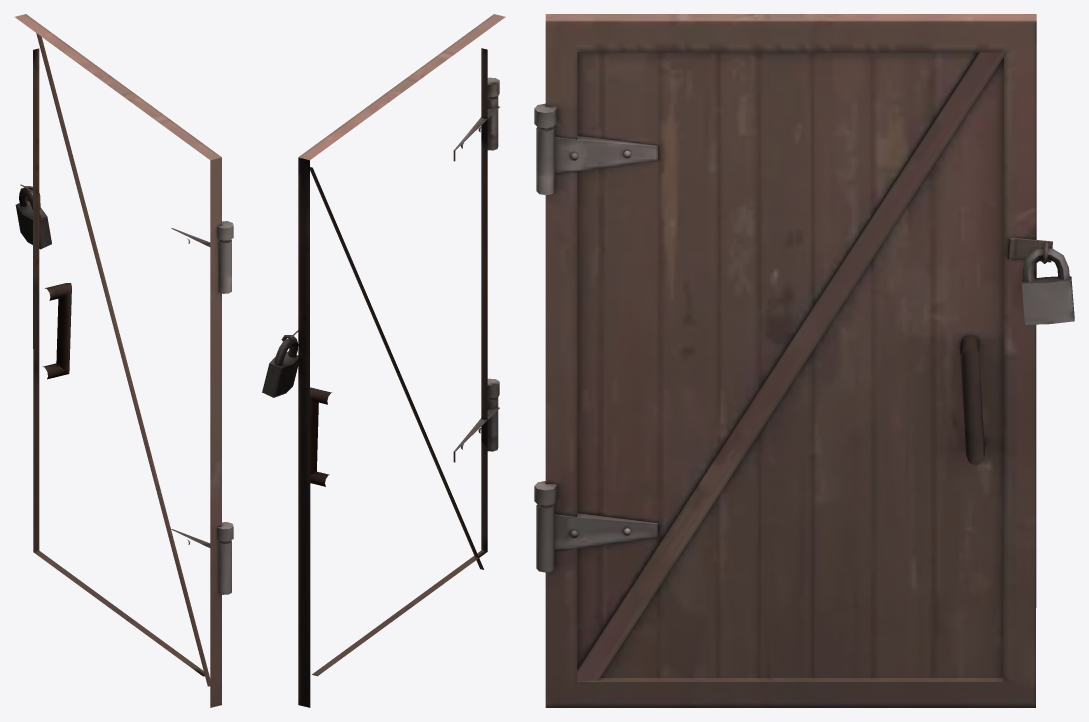
3 renders of one model, left to right at view 1: azimuth 30°, elevation 25°; view 2: azimuth 150°, elevation 25°; view 3: azimuth 270°, elevation 25°, orthographic. The views are drawn at different scales.
Parts seen in each view (by area): view 1: body0_model0_lod0_mesh0; view 2: body0_model0_lod0_mesh0; view 3: body0_model0_lod0_mesh0.
Boxes of the visible parts, <box> form: body0_model0_lod0_mesh0: <box>15,14,233,707</box>; body0_model0_lod0_mesh0: <box>262,14,505,707</box>; body0_model0_lod0_mesh0: <box>534,14,1074,707</box>.
Size of the model in its own units: 8.49 by 124 by 88.41.
1 material, 1 textured.
